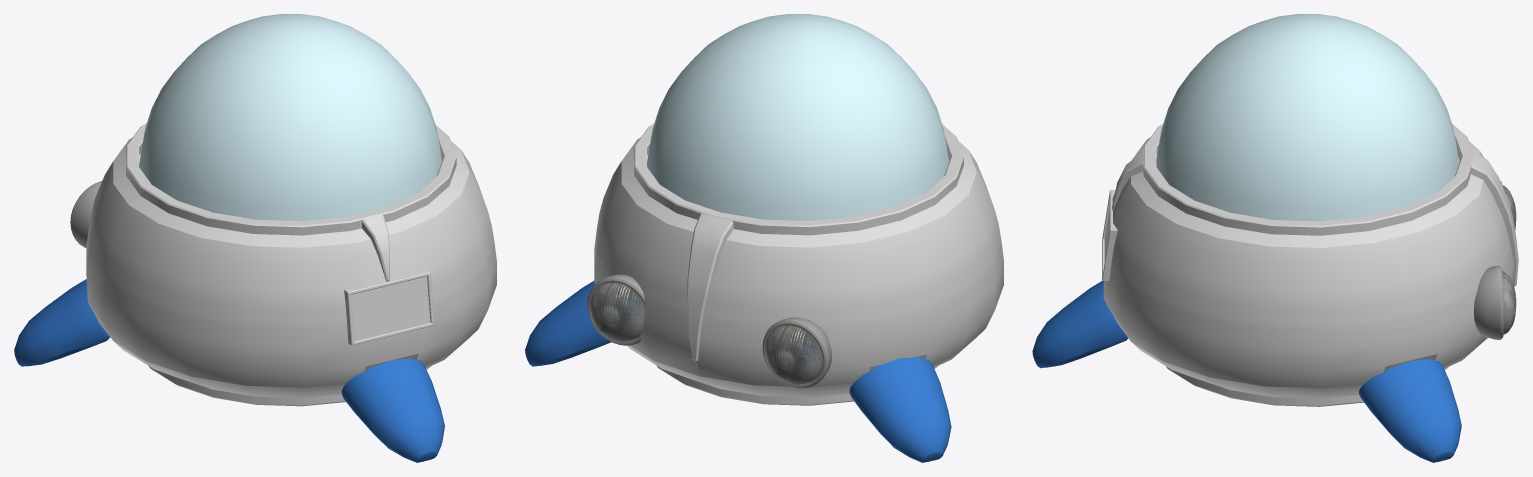
File: modelBeta01.gltf
3 views of the same model, side by side, from view 1: azimuth 30°, elevation 25°; view 2: azimuth 150°, elevation 25°; view 3: azimuth 270°, elevation 25° (orthographic).
Visible parts, largest first — view 1: Node #86, Node #110, Node #78, Node #82, Node #70; view 2: Node #86, Node #110, Node #82, Node #70, Node #65, Node #72; view 3: Node #86, Node #110, Node #65, Node #78, Node #72.
Boxes of the visible parts, x1,y1,x2,y2 form: Node #86: (86,123,496,406); Node #110: (139,14,442,221); Node #78: (341,358,444,462); Node #82: (14,279,110,366); Node #70: (70,181,101,247); Node #86: (594,123,1003,405); Node #110: (647,14,948,220); Node #82: (849,357,951,462); Node #70: (762,317,832,388); Node #65: (525,280,611,366); Node #72: (587,274,644,345); Node #86: (1102,123,1518,406); Node #110: (1156,14,1459,221); Node #65: (1359,359,1461,462); Node #78: (1032,280,1128,368); Node #72: (1474,265,1516,339).
Bounding box in the file's own units: 8.2 × 6.47 × 8.26.
17 materials, 11 textured.
